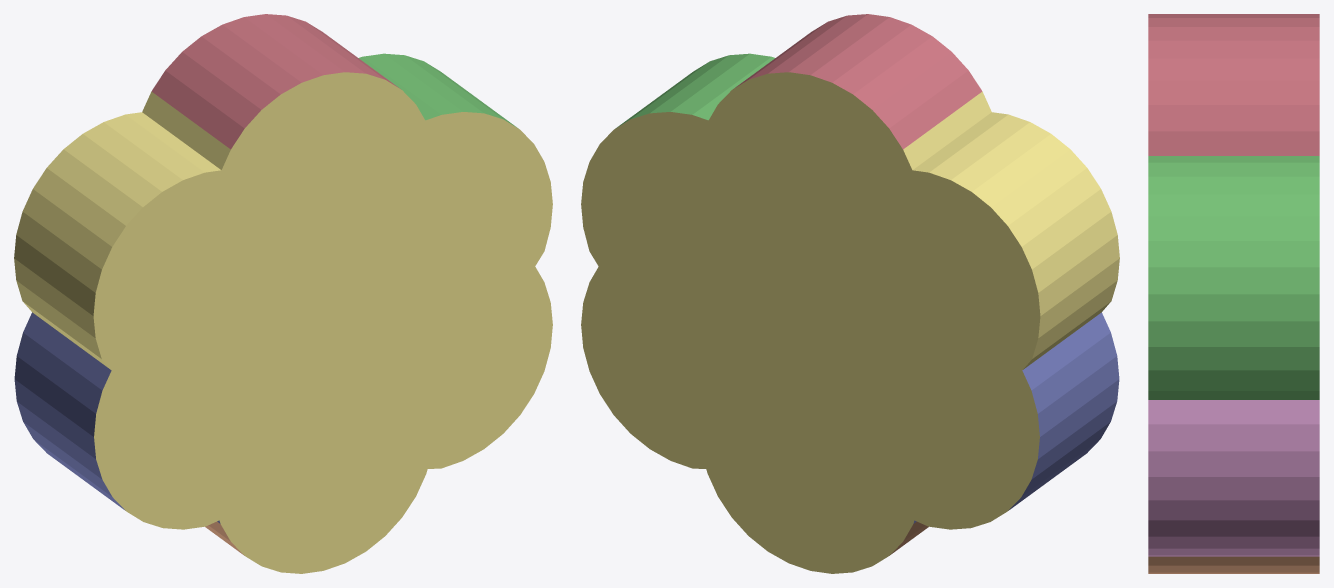
The model's file is archipelago.gltf.
The picture shows the model from 3 angles, left to right: view 1: azimuth 30°, elevation 25°; view 2: azimuth 150°, elevation 25°; view 3: azimuth 270°, elevation 25°; orthographic projection. The views are drawn at different scales.
Visible parts, largest first — view 1: AP Logo Outline; view 2: AP Logo Outline; view 3: AP Logo Outline.
Part boxes in pixels (x1=…): AP Logo Outline: x1=14, y1=14, x2=552, y2=573; AP Logo Outline: x1=581, y1=14, x2=1119, y2=573; AP Logo Outline: x1=1148, y1=14, x2=1319, y2=573.
Bounding box in the file's own units: 2.37 × 2.45 × 0.7116.
